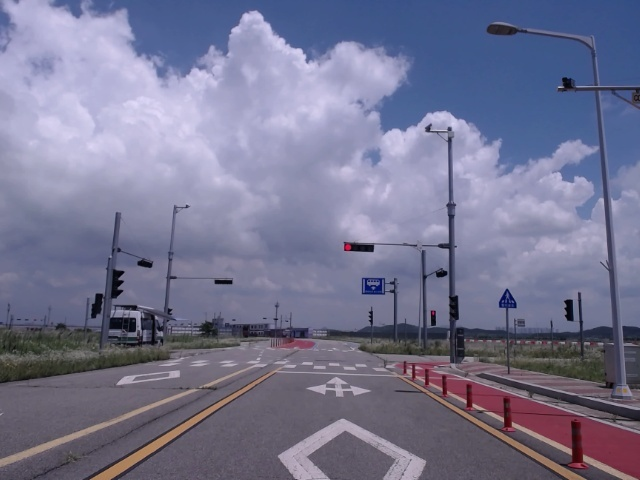red_4: (344, 244, 374, 252)
